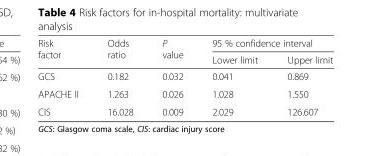table: (37, 37, 332, 116)
table column: (197, 37, 271, 116), (271, 37, 332, 116), (37, 37, 92, 116), (92, 37, 147, 116), (147, 37, 197, 116)
table column header: (37, 37, 332, 67)
table row: (37, 84, 332, 102), (37, 50, 332, 67), (37, 67, 332, 84), (37, 102, 332, 116), (37, 37, 332, 50)
table spanning cell: (197, 37, 332, 50), (37, 37, 92, 67), (92, 37, 147, 67), (147, 37, 197, 67)
